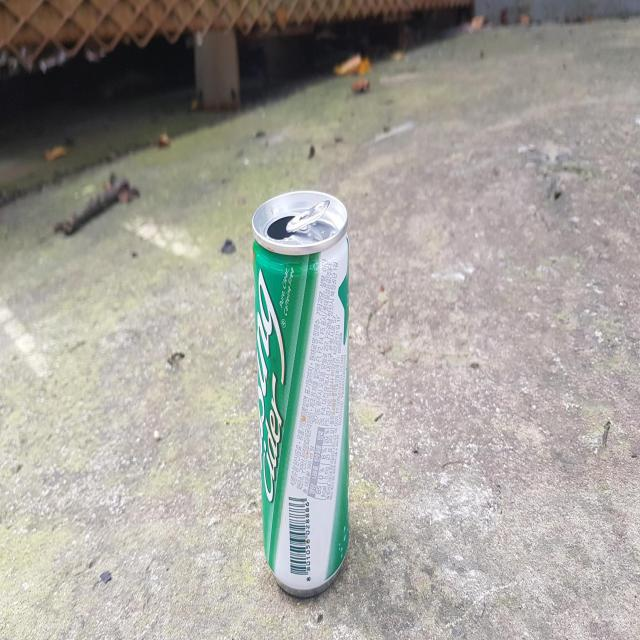can: (252, 189, 349, 596)
